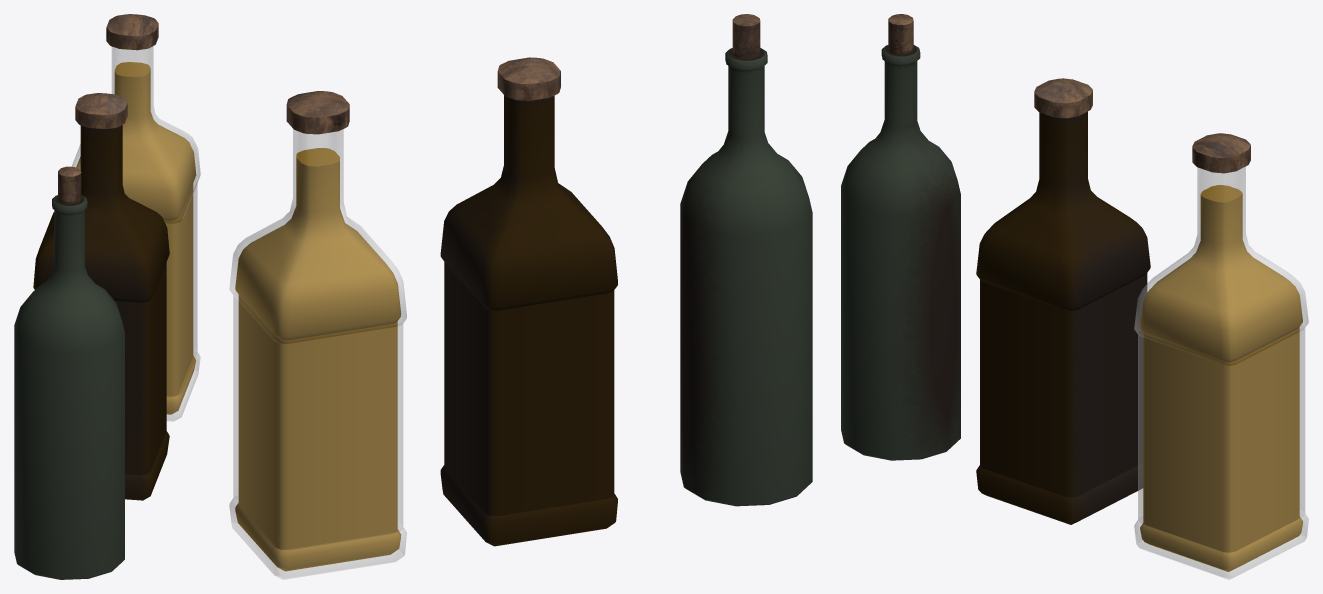
The model's file is liquor.glb.
3 renders of one model, left to right at view 1: azimuth 30°, elevation 25°; view 2: azimuth 150°, elevation 25°; view 3: azimuth 270°, elevation 25°, orthographic. The views are drawn at different scales.
Parts seen in each view (by area): view 1: Whiskey; view 2: Whiskey; view 3: Whiskey.
Part boxes in pixels (x1=…): Whiskey: x1=14, y1=14, x2=200, y2=579; Whiskey: x1=229, y1=14, x2=812, y2=579; Whiskey: x1=841, y1=14, x2=1308, y2=579.
Size of the model in its own units: 0.6447 by 0.7227 by 0.7342.
Materials: 3 (3 with a texture image).
